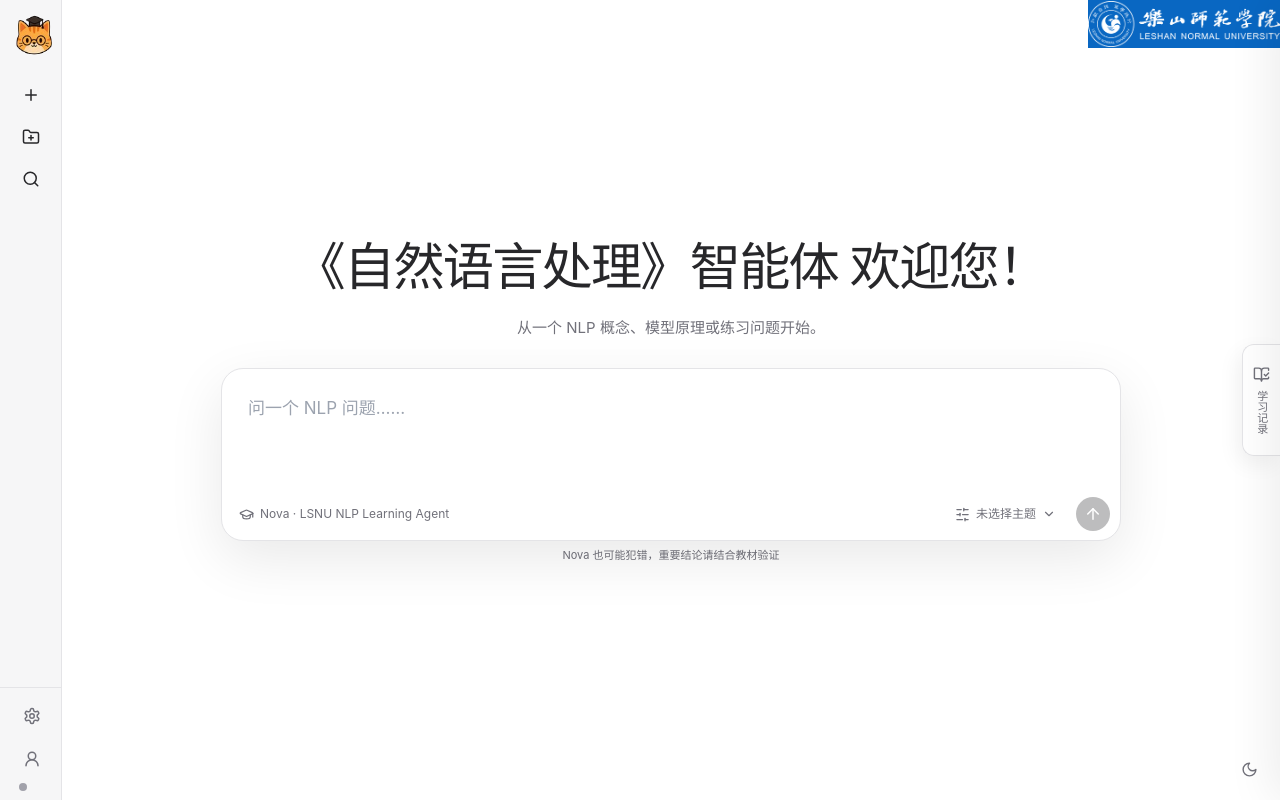
Test: student authentication bootstrap › loads the learning catalogue after authentication completes
Check: the heading "《自然语言处理》智能体 欢迎您！" is shown, box top-left (295, 235), bottom-right (1047, 297)
Click the button named "学习设置".
click(1006, 514)  # box top-left (947, 499), bottom-right (1064, 529)
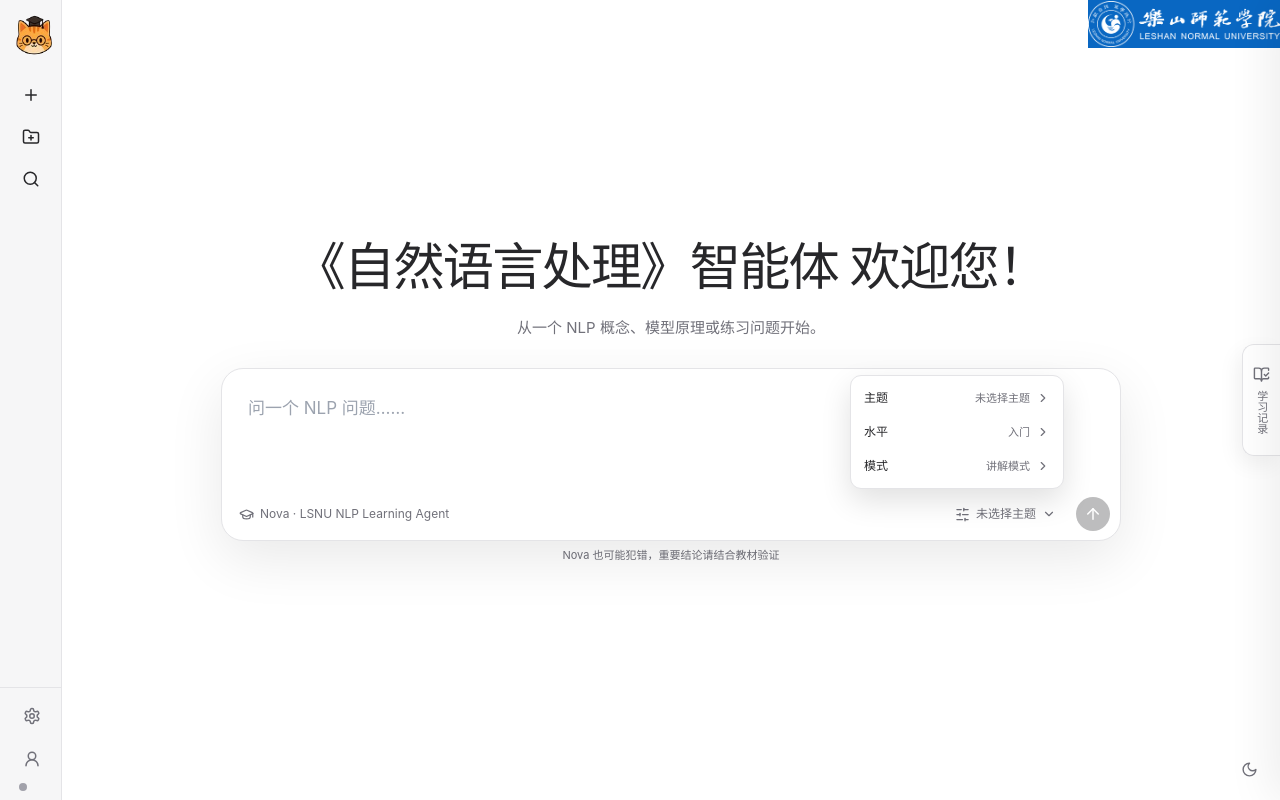
Click the button named "学习主题".
click(957, 398)  # box top-left (857, 382), bottom-right (1057, 414)
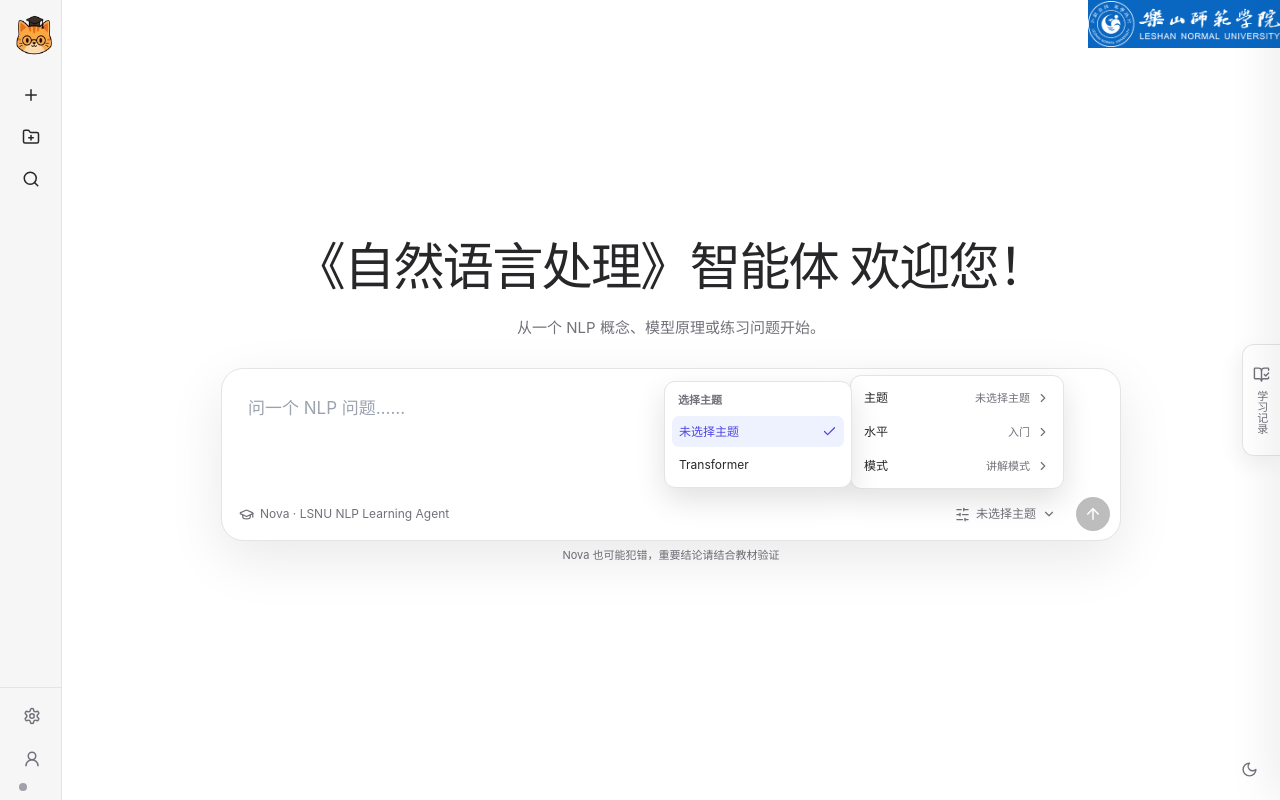
Check: the option "Transformer" is shown, box top-left (672, 449), bottom-right (844, 480)
